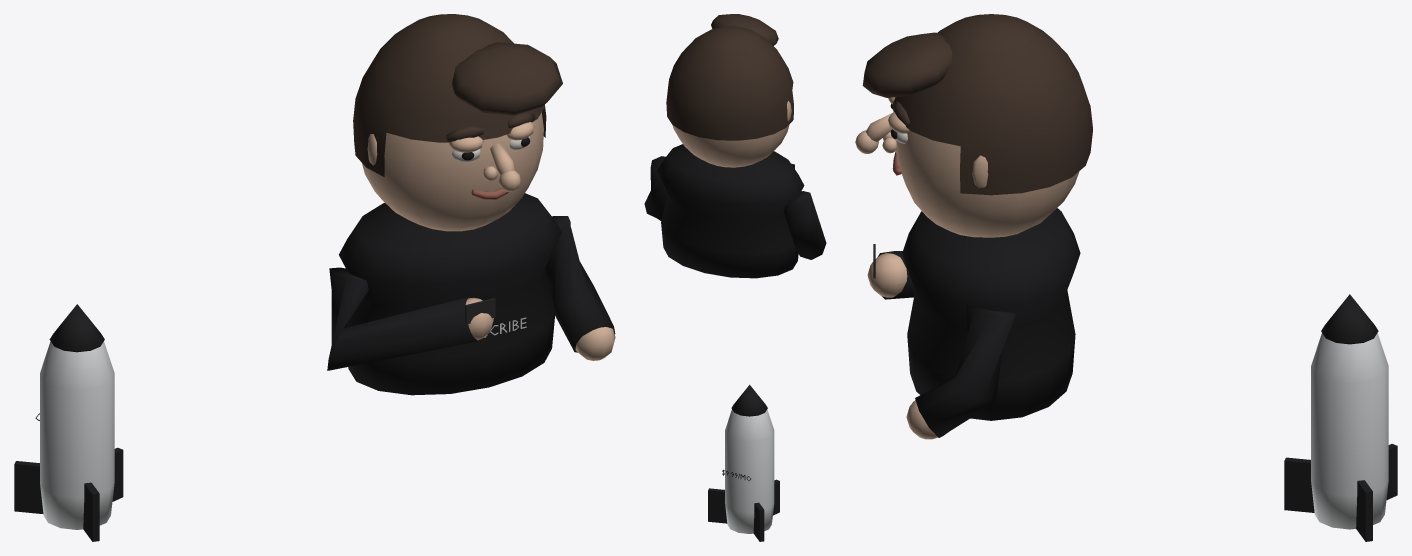
3 renders of one model, left to right at view 1: azimuth 30°, elevation 25°; view 2: azimuth 150°, elevation 25°; view 3: azimuth 270°, elevation 25°, orthographic. The views are drawn at different scales.
Visible parts, largest first — view 1: fig_body, fig_head, fig_props; view 2: fig_body, fig_head, fig_props; view 3: fig_head, fig_body, fig_props.
Boxes of the visible parts, x1=… form: fig_body: x1=327, y1=193, x2=615, y2=395; fig_head: x1=353, y1=14, x2=562, y2=231; fig_props: x1=14, y1=304, x2=123, y2=541; fig_body: x1=644, y1=144, x2=826, y2=278; fig_head: x1=666, y1=14, x2=793, y2=167; fig_props: x1=708, y1=384, x2=779, y2=541; fig_head: x1=855, y1=14, x2=1092, y2=237; fig_body: x1=867, y1=208, x2=1080, y2=439; fig_props: x1=1284, y1=294, x2=1397, y2=541.
Size of the model in its own units: 1.17 by 1.69 by 1.39.
